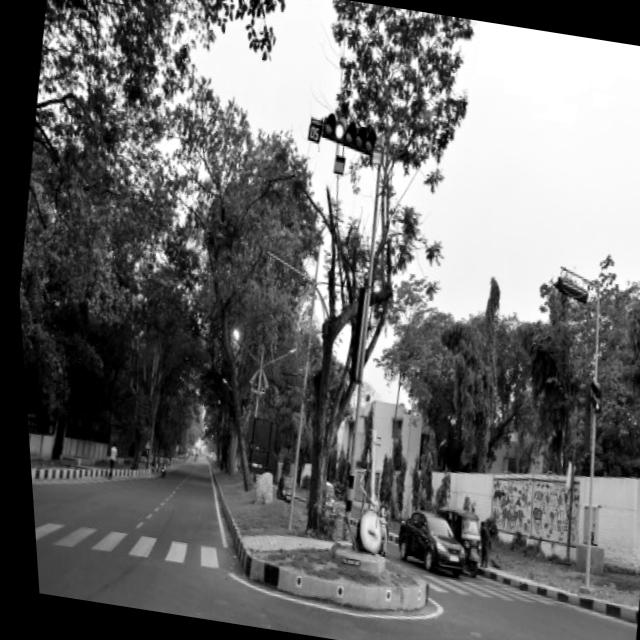cleat: (15, 0, 640, 640)
